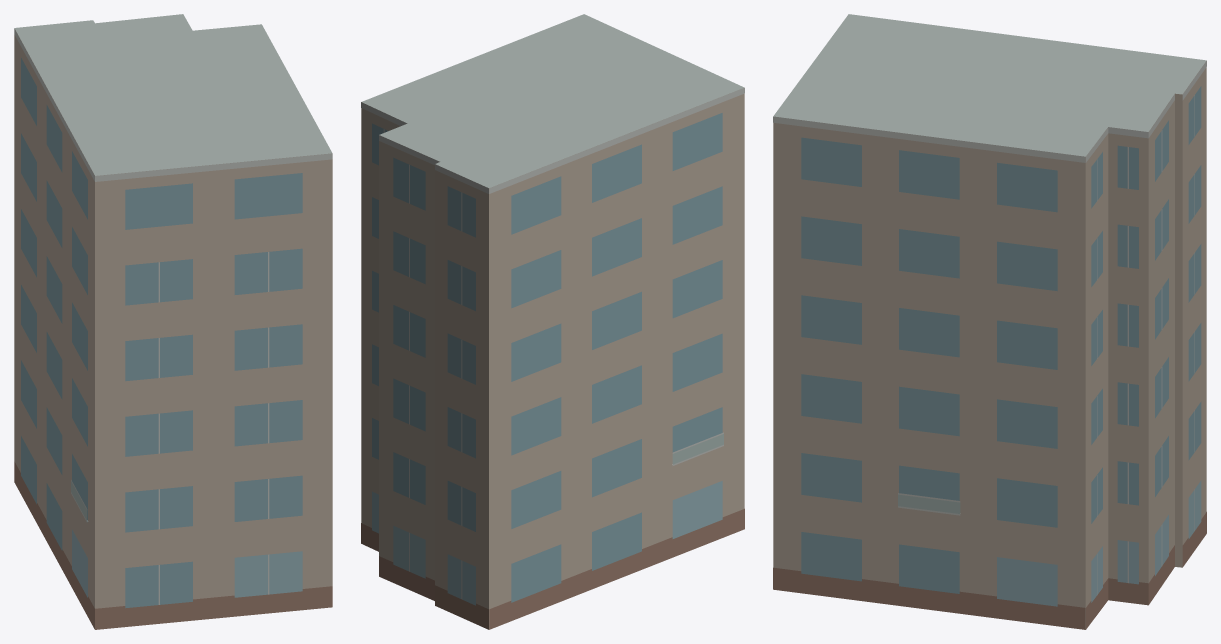
The model's file is survey-upis-33019454.glb.
3 views of the same model, side by side, from view 1: azimuth 30°, elevation 25°; view 2: azimuth 150°, elevation 25°; view 3: azimuth 270°, elevation 25° (orthographic). The views are drawn at different scales.
Parts seen in each view (by area): view 1: survey-upis-33019454.tmp; view 2: survey-upis-33019454.tmp; view 3: survey-upis-33019454.tmp.
Part boxes in pixels (<box>): survey-upis-33019454.tmp: <box>14,14,332,629</box>; survey-upis-33019454.tmp: <box>361,14,744,629</box>; survey-upis-33019454.tmp: <box>773,14,1206,629</box>.
Size of the model in its own units: 11.84 by 18.3 by 15.21.
